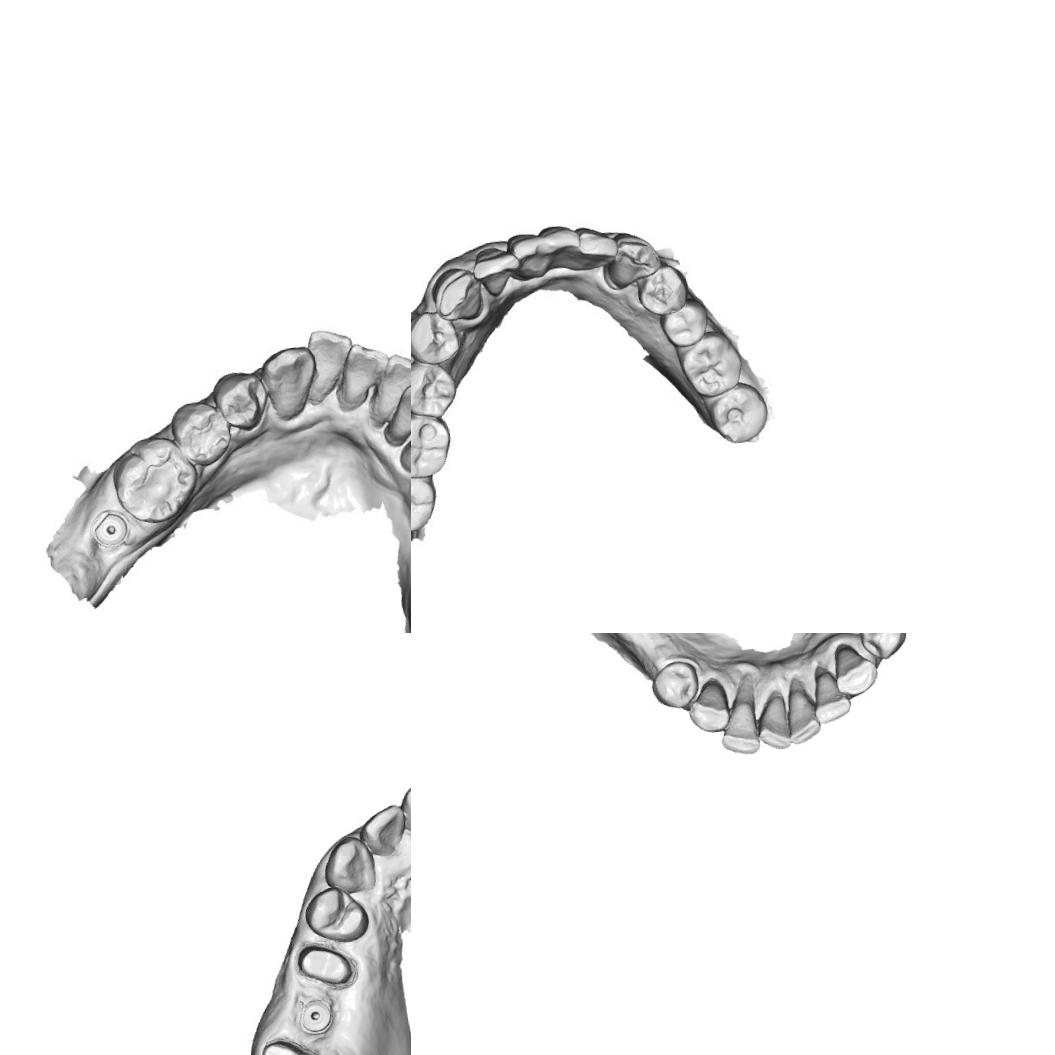canine: (256, 339, 322, 425), (318, 832, 381, 898), (599, 226, 658, 294), (428, 264, 488, 324), (830, 638, 882, 698), (684, 676, 732, 736), (394, 408, 411, 478)
crown: (293, 938, 358, 993), (253, 1032, 338, 1055)
implant: (294, 992, 334, 1036), (90, 510, 130, 553)
incisor: (303, 324, 360, 400), (336, 337, 392, 406), (714, 682, 762, 759), (366, 349, 411, 427), (356, 802, 408, 861), (808, 662, 854, 726), (782, 676, 824, 746), (752, 688, 791, 754), (573, 222, 622, 274), (510, 229, 552, 284), (475, 242, 520, 293), (540, 224, 584, 276), (380, 380, 411, 446), (396, 777, 411, 849)
molar: (105, 431, 204, 529), (673, 328, 749, 405), (706, 377, 771, 449), (411, 409, 455, 484), (411, 455, 438, 541)
premolar: (168, 395, 234, 472), (300, 881, 373, 949), (208, 362, 274, 436), (411, 304, 466, 369), (411, 354, 460, 424), (632, 260, 689, 319), (648, 657, 702, 712), (659, 296, 713, 350), (856, 633, 910, 663)
